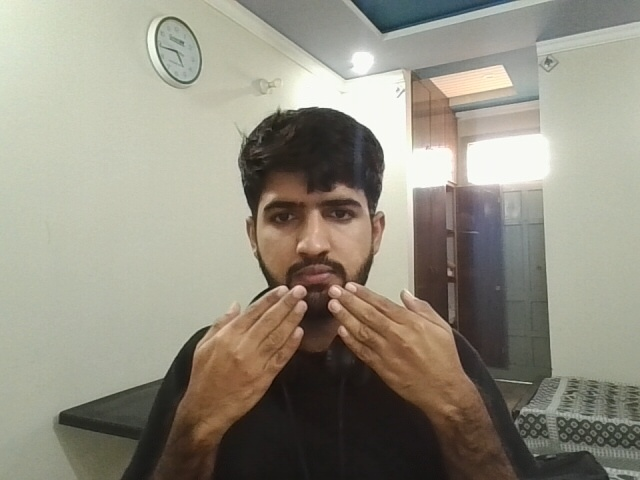Thanks: (133, 273, 542, 449)
